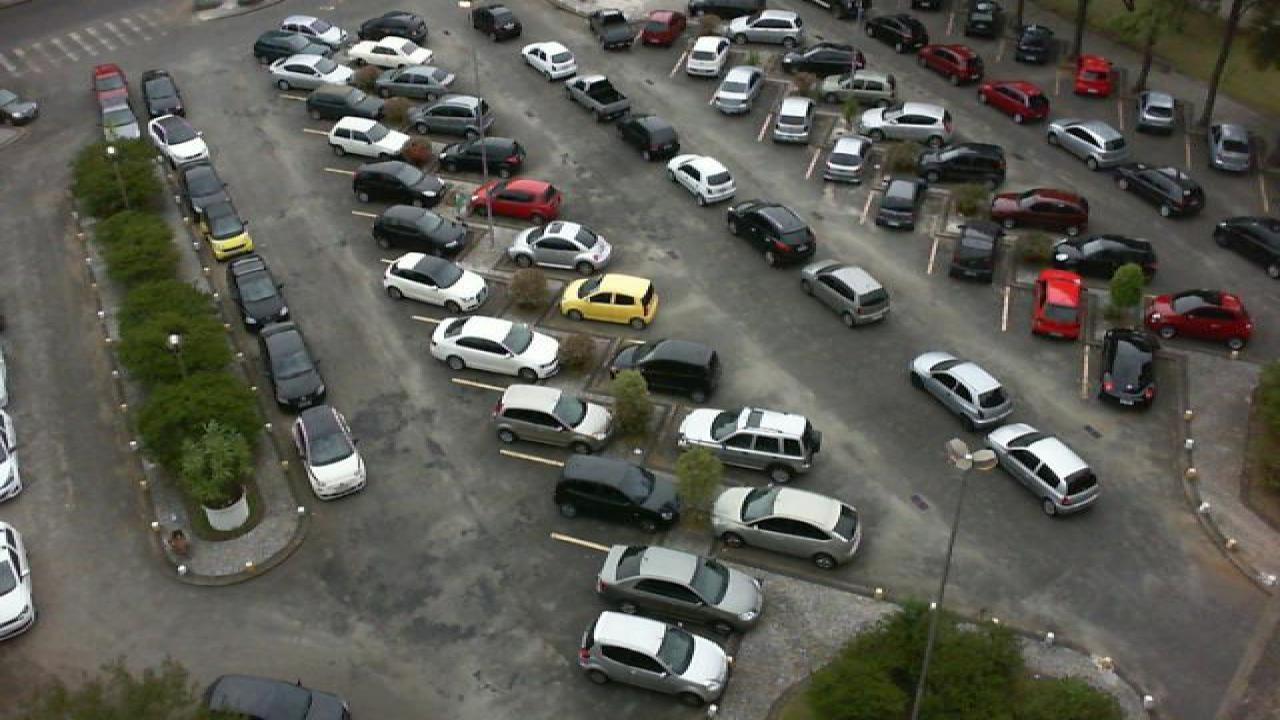Car: (588, 539, 768, 632), (572, 608, 736, 706), (702, 480, 868, 572), (674, 403, 828, 486), (984, 419, 1106, 520), (550, 450, 682, 532), (488, 380, 618, 458), (422, 312, 566, 382), (906, 348, 1022, 434), (606, 335, 726, 407), (1140, 284, 1258, 356), (290, 403, 372, 503), (378, 250, 494, 315), (796, 258, 896, 330), (722, 197, 820, 268), (504, 218, 618, 277), (1092, 325, 1166, 415), (256, 320, 328, 412), (556, 271, 664, 331), (368, 201, 474, 261), (1044, 233, 1162, 283), (984, 184, 1094, 236), (1108, 161, 1208, 218), (226, 252, 294, 333), (348, 156, 446, 208), (1026, 267, 1092, 344), (1042, 116, 1132, 172), (466, 174, 566, 223), (1204, 212, 1280, 274), (324, 114, 420, 163), (430, 134, 528, 181), (90, 62, 146, 142), (660, 151, 740, 207), (972, 76, 1056, 128), (400, 93, 496, 138), (858, 101, 956, 145), (264, 50, 354, 96), (558, 72, 632, 127), (950, 217, 1008, 287), (916, 140, 1008, 184), (610, 112, 684, 166), (194, 199, 256, 263), (342, 34, 438, 73), (912, 40, 988, 89), (870, 173, 930, 234), (146, 114, 208, 173), (172, 161, 234, 219), (514, 39, 584, 88), (372, 63, 460, 101), (780, 40, 868, 77), (1206, 118, 1260, 176), (820, 70, 900, 109), (864, 12, 932, 56), (710, 64, 764, 118), (818, 132, 874, 184), (728, 8, 808, 44), (766, 92, 818, 146), (138, 68, 190, 121), (278, 13, 352, 50), (356, 9, 432, 45), (252, 30, 320, 68), (588, 9, 644, 53), (1068, 51, 1118, 100), (464, 2, 522, 44), (680, 33, 730, 81), (1130, 87, 1178, 135), (1012, 21, 1056, 66), (638, 8, 686, 49), (964, 0, 1006, 39)
